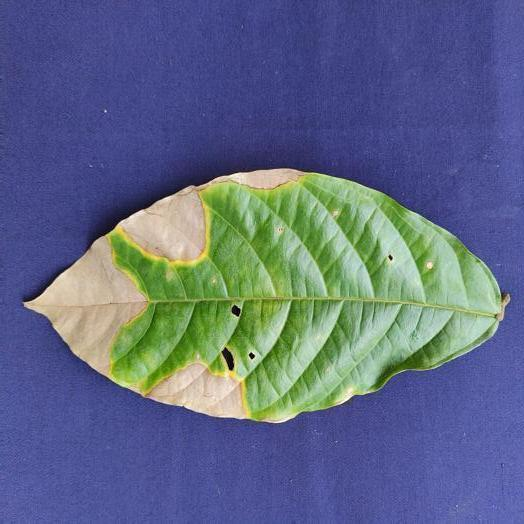Potassium: (26, 170, 509, 421)
